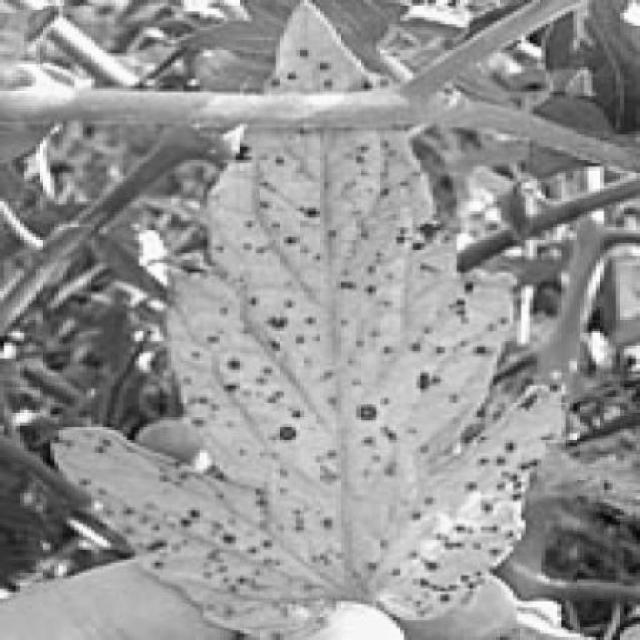Septoria: (43, 6, 577, 628)
